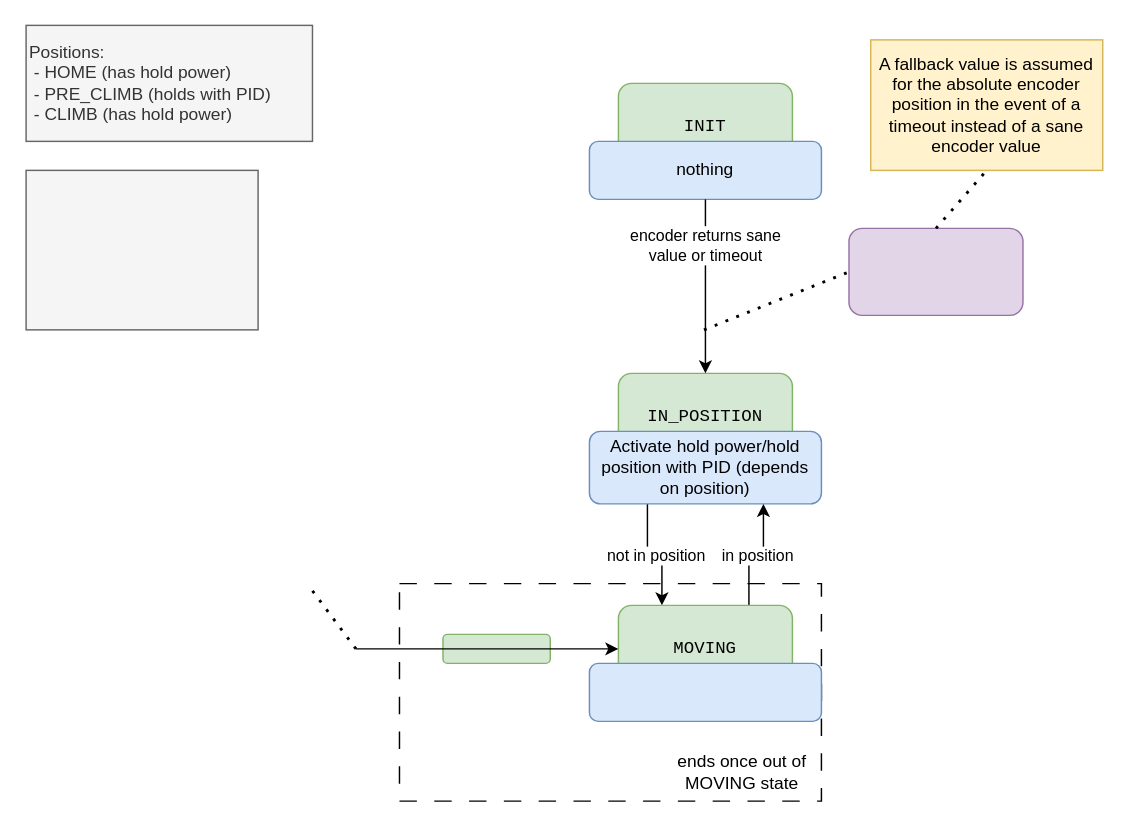
The diagram is 1128 pixels wide and 827 high, and some of its shapes have lost their labels. The centre of each missing label's shape, as x and y in pixels:
"INTERRUPT" belongs at (496,648).
"Motors: - 2 Krakens Sensors: - Absolute encoder" belongs at (141,249).
"reset relative encoder to position of absolute encoder" belongs at (935,271).
"Set motor to target" belongs at (704,691).
